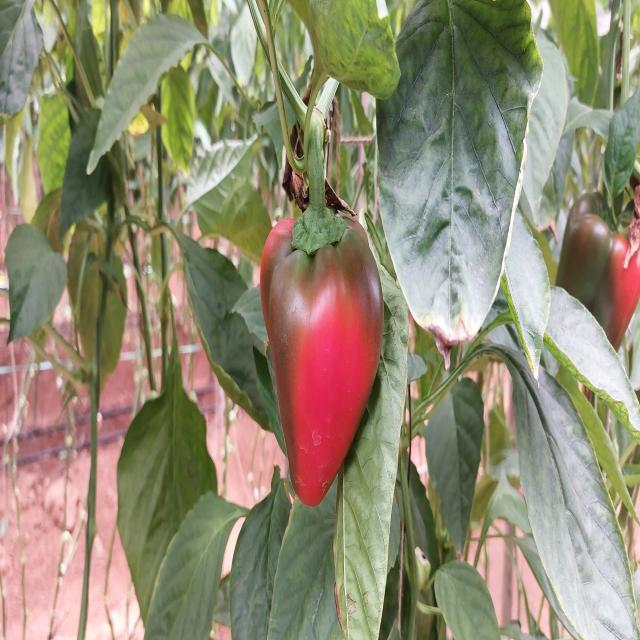BrownishRed--Can-be-Harvested: (560, 179, 640, 359)
Red-Ready-to-Harvest: (270, 215, 378, 508)
